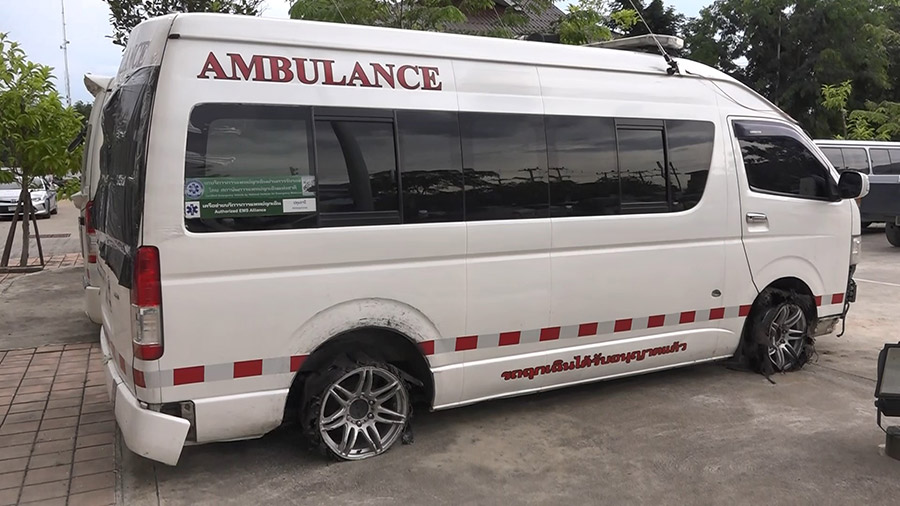van: (87, 11, 864, 459)
